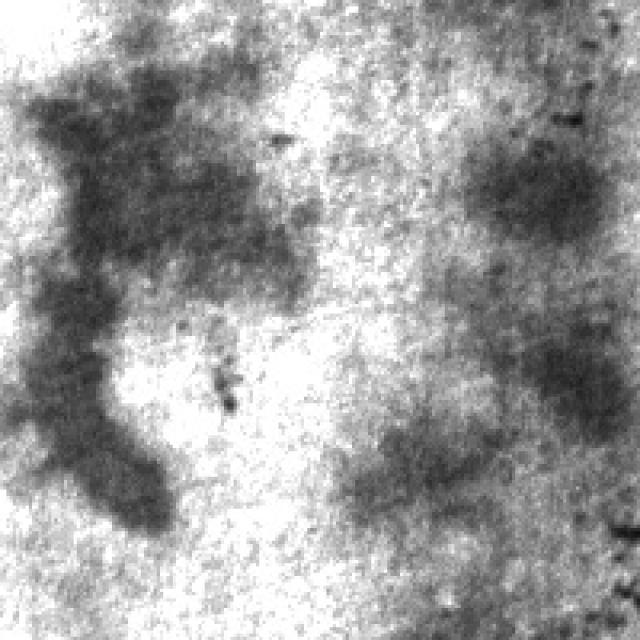patches: (10, 0, 188, 547), (93, 102, 301, 310), (317, 406, 518, 541), (461, 122, 614, 259), (502, 301, 634, 451)
